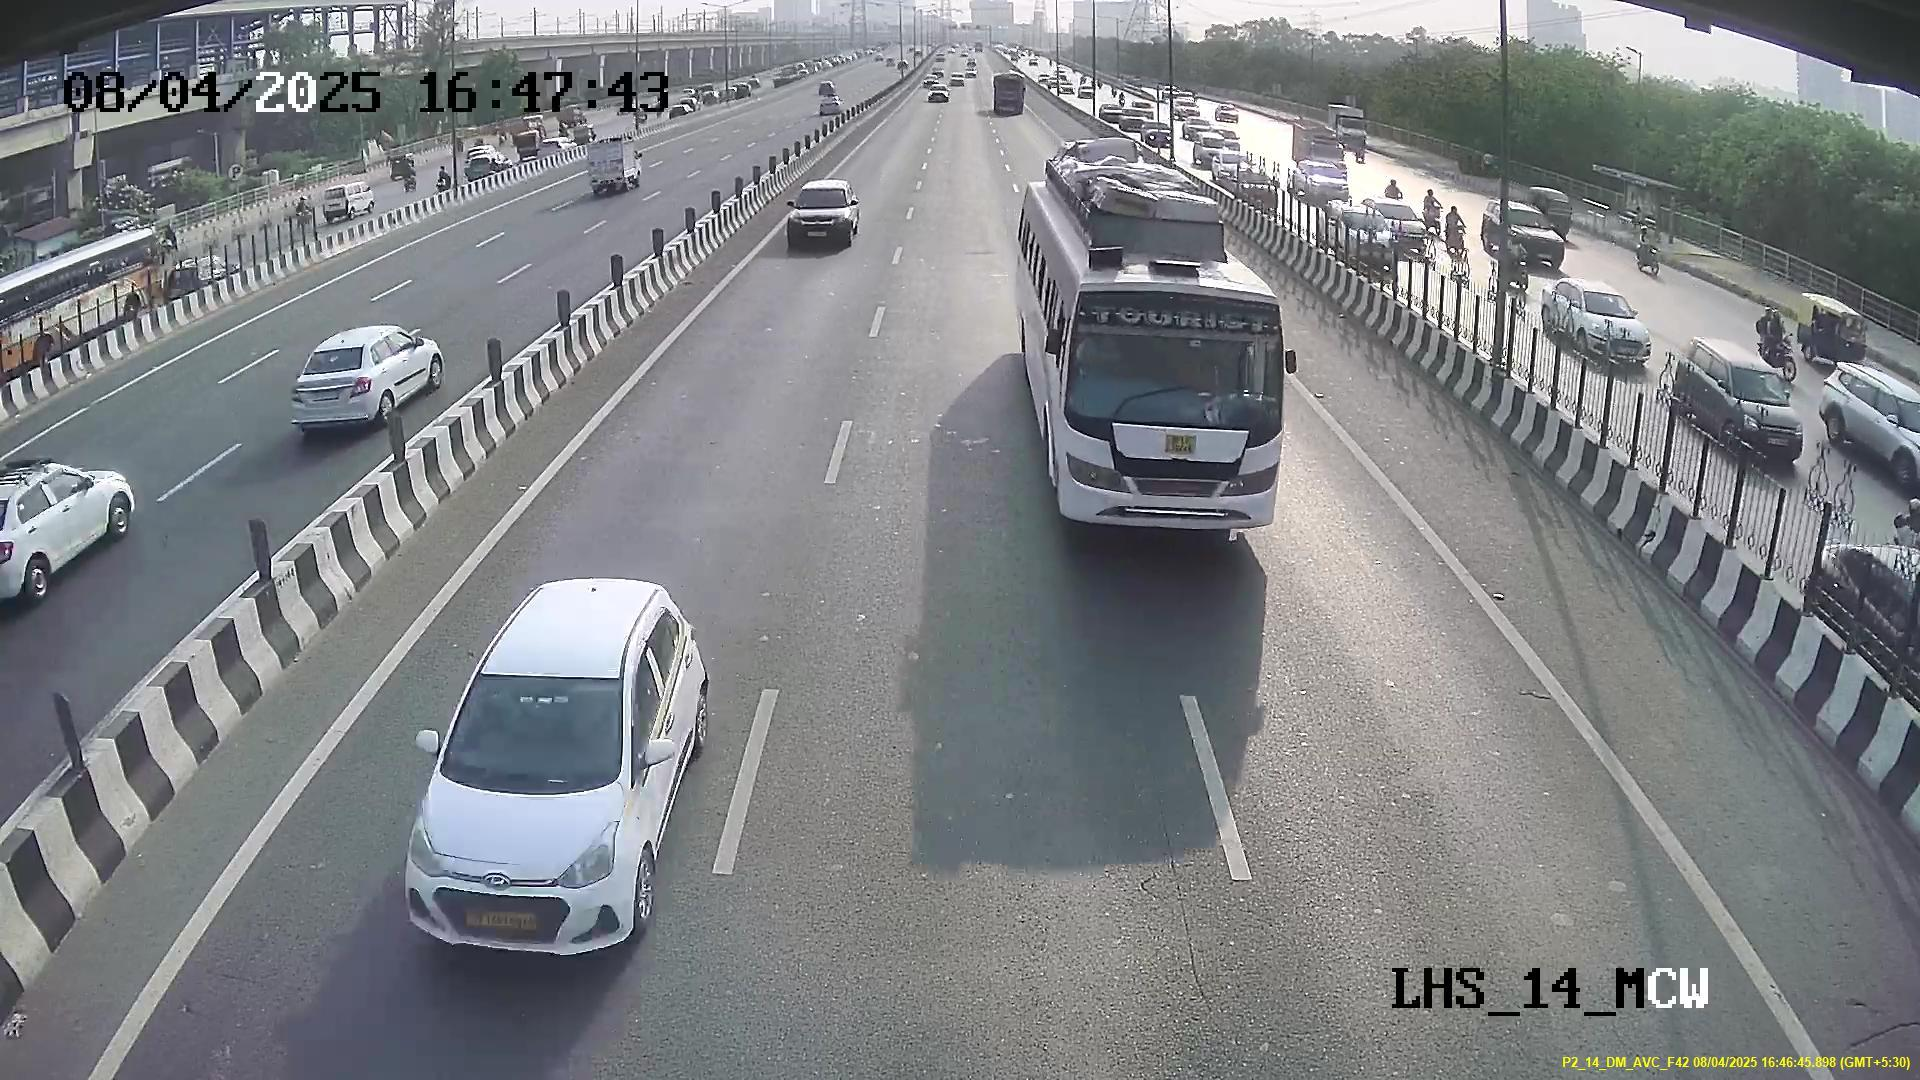bus: (1029, 260, 1296, 546)
car: (397, 624, 670, 961)
